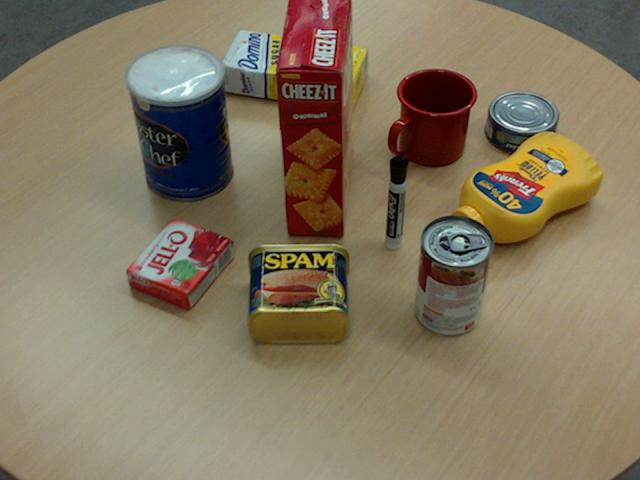cracker_box: (275, 0, 355, 236)
gelatin_box: (125, 216, 232, 308)
large_marker: (385, 156, 407, 249)
master_chef_can: (126, 44, 231, 201)
mug: (388, 68, 476, 165)
mustard_bottle: (443, 132, 600, 244)
potted_meat_can: (246, 242, 347, 342)
sugar_box: (218, 29, 367, 110)
tomato_soup_can: (414, 214, 493, 335)
tuna_fish_can: (483, 91, 556, 154)
